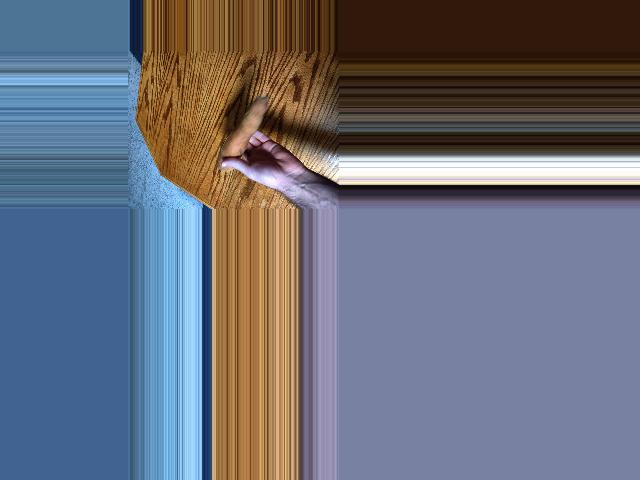sweet_potato: (217, 97, 268, 174)
